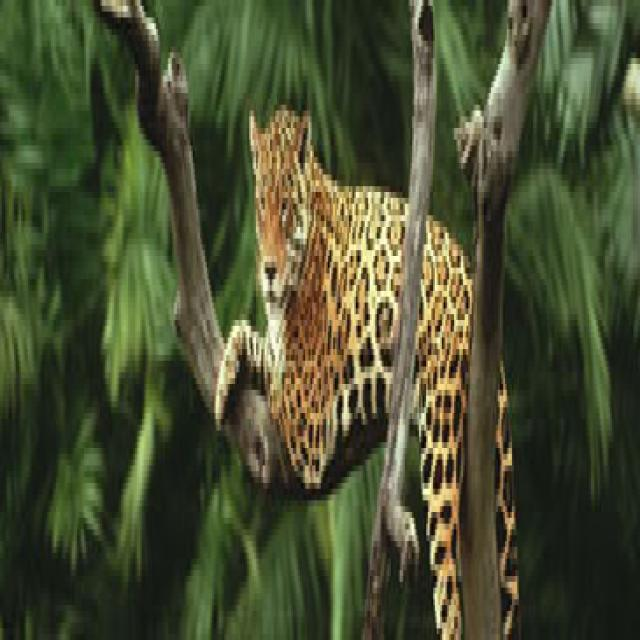Leopard: (210, 93, 516, 628)
